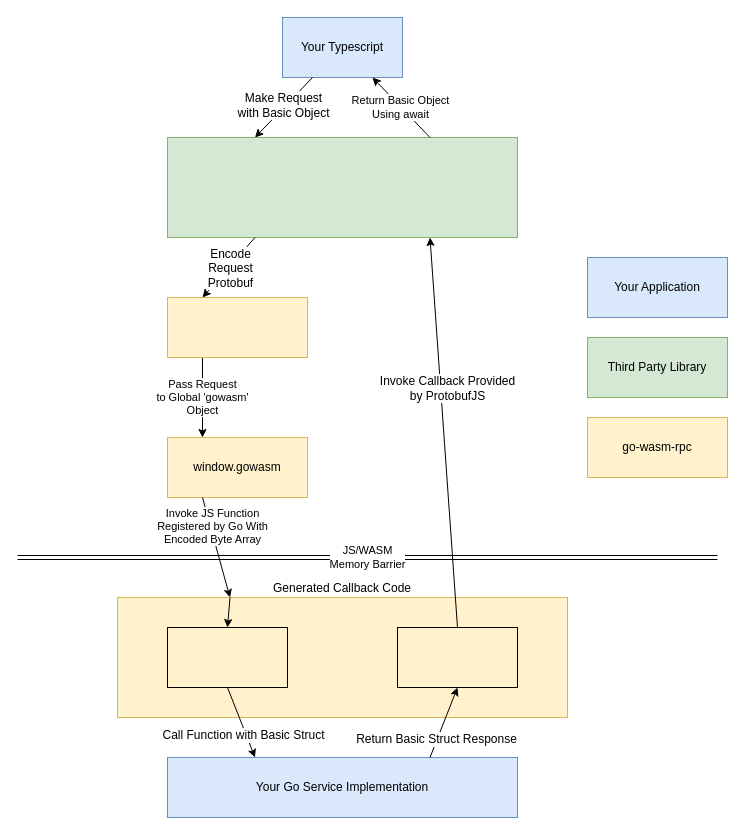
This 745x835 diagram has some shape labels left out. The box of each missing label's shape, as (x1, y1, x2, y2) in pixels:
Decode protobuf: (166, 626, 288, 688)
Encode protobuf: (396, 626, 518, 688)
ProtobufJS: (166, 136, 518, 238)
RPC Implementation: (166, 296, 308, 358)
